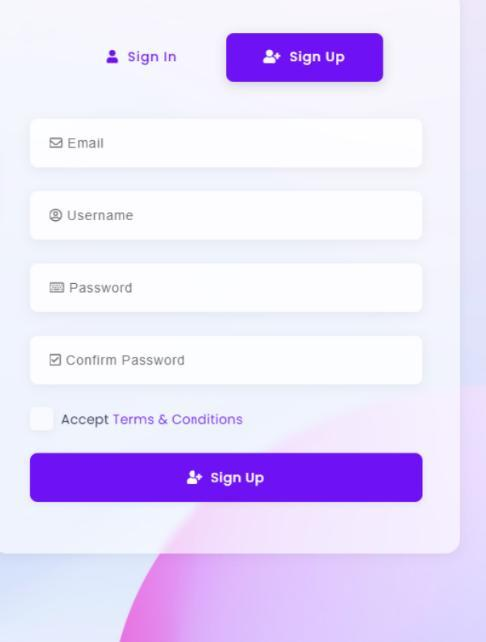button: (30, 453, 426, 505), (227, 33, 386, 84), (91, 37, 224, 86)
checkbox: (33, 407, 52, 431)
input: (33, 265, 425, 319), (30, 193, 421, 243), (32, 120, 423, 169), (32, 338, 424, 384)
label: (60, 411, 250, 437)
